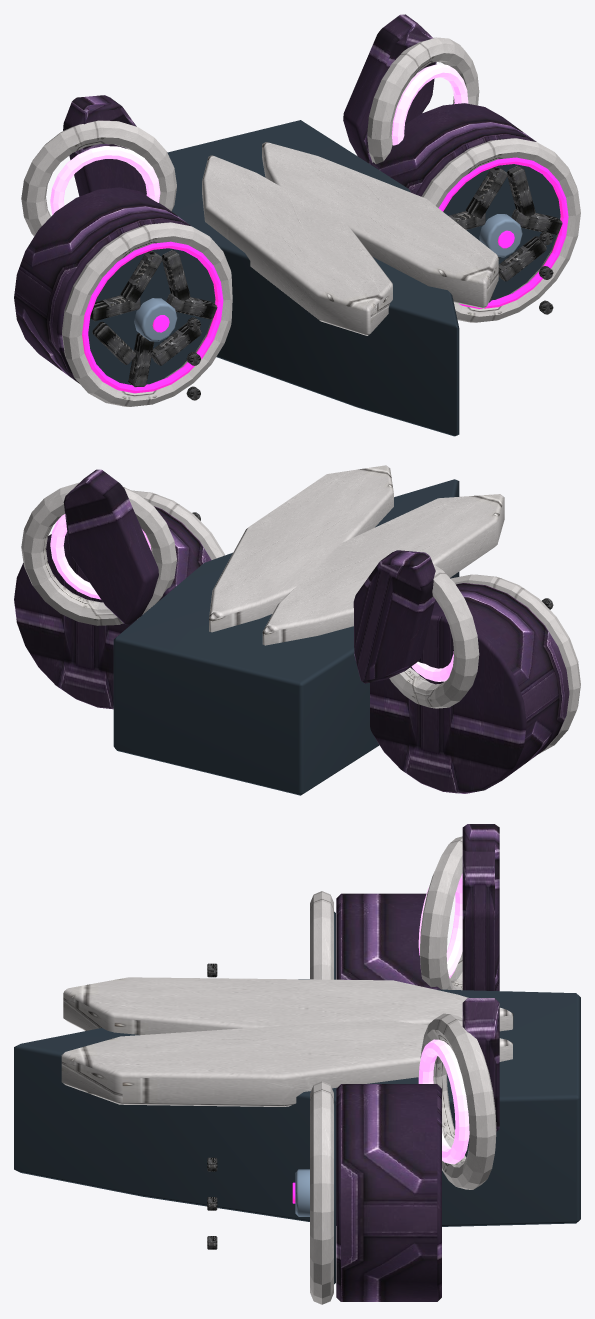
Rendered from sector_08_4.glb.
3 views of the same model, one above another, from view 1: azimuth 30°, elevation 25°; view 2: azimuth 150°, elevation 25°; view 3: azimuth 270°, elevation 25° (orthographic). The views are drawn at different scales.
Visible parts, largest first — view 1: Split arrow nose, Pointed interceptor chassis, Swept dorsal vane, Turbine impeller blade, Turbine running light, Induction inner ring, Turbine hub; view 2: Swept dorsal vane, Split arrow nose, Pointed interceptor chassis, Induction inner ring; view 3: Split arrow nose, Pointed interceptor chassis, Swept dorsal vane, Induction inner ring, Turbine hub, Turbine impeller blade.
Part boxes in pixels (bbox=[...]): Split arrow nose: bbox=[21, 37, 580, 406]; Pointed interceptor chassis: bbox=[88, 120, 560, 436]; Swept dorsal vane: bbox=[14, 14, 536, 383]; Turbine impeller blade: bbox=[90, 165, 562, 400]; Turbine running light: bbox=[82, 157, 568, 393]; Induction inner ring: bbox=[50, 64, 468, 214]; Turbine hub: bbox=[134, 214, 522, 341]; Swept dorsal vane: bbox=[14, 469, 569, 793]; Split arrow nose: bbox=[21, 465, 580, 753]; Pointed interceptor chassis: bbox=[113, 479, 459, 795]; Induction inner ring: bbox=[50, 514, 453, 681]; Split arrow nose: bbox=[61, 836, 513, 1304]; Pointed interceptor chassis: bbox=[14, 911, 580, 1284]; Swept dorsal vane: bbox=[336, 824, 499, 1301]; Induction inner ring: bbox=[418, 873, 469, 1164]; Turbine hub: bbox=[295, 979, 309, 1216]; Turbine impeller blade: bbox=[207, 963, 217, 1249].
Bounding box in the file's own units: 1.47 × 0.6893 × 1.23.
Materials: 7 (3 with a texture image).
